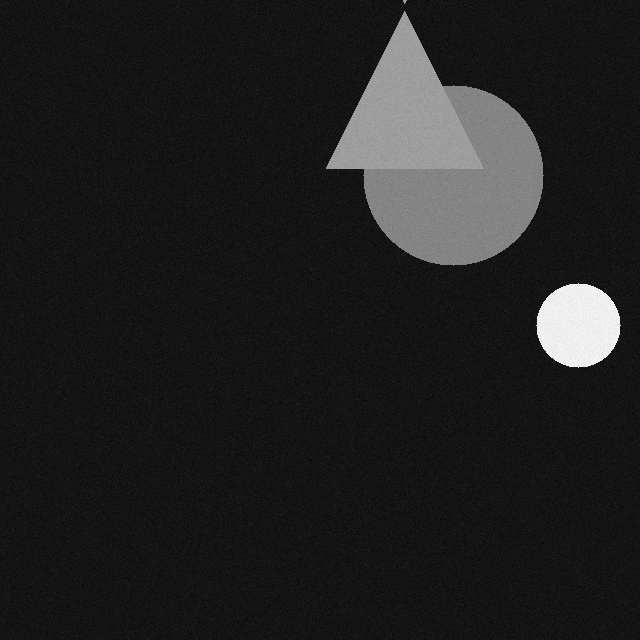circle: (359, 78, 539, 258), (532, 276, 616, 360)
triangle: (322, 4, 479, 161)
